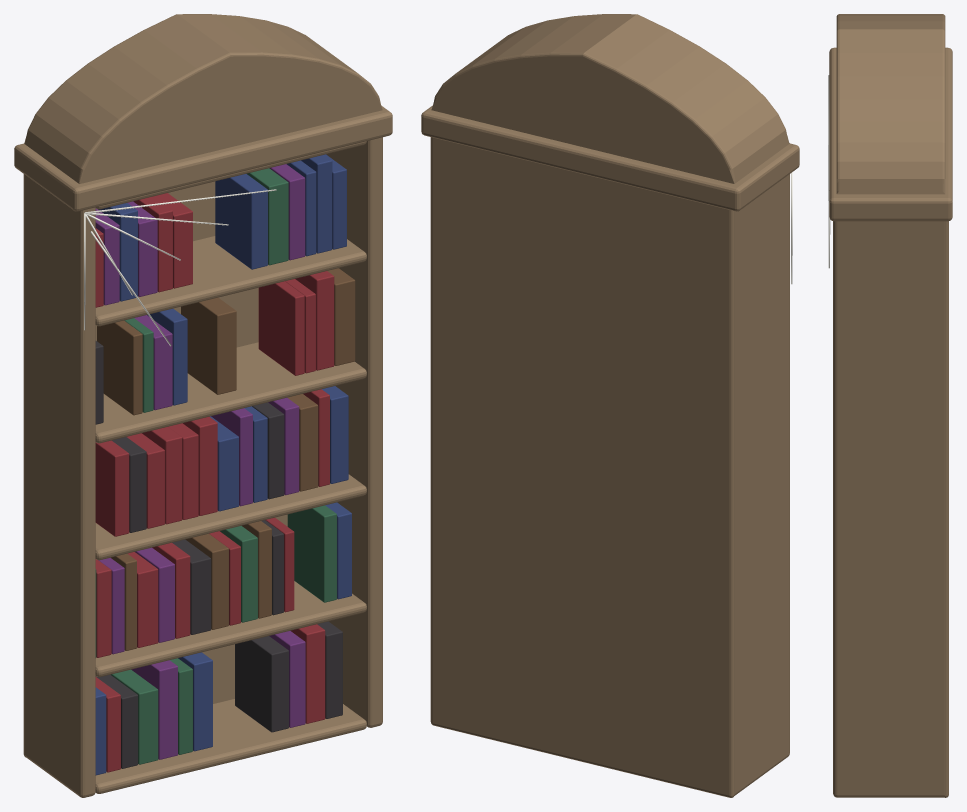
File: bookshelf_cobwebbed.glb
3 views of the same model, side by side, from view 1: azimuth 30°, elevation 25°; view 2: azimuth 150°, elevation 25°; view 3: azimuth 270°, elevation 25° (orthographic).
Visible parts, largest first — view 1: GD_bookshelf_cobwebbed__m0, GD_bookshelf_cobwebbed__m1, GD_bookshelf_cobwebbed__m5, GD_bookshelf_cobwebbed__m4, GD_bookshelf_cobwebbed__m6, GD_bookshelf_cobwebbed__m2, GD_bookshelf_cobwebbed__m3, GD_bookshelf_cobwebbed__m7; view 2: GD_bookshelf_cobwebbed__m0; view 3: GD_bookshelf_cobwebbed__m0, GD_bookshelf_cobwebbed__m7.
Part boxes in pixels (x1,y1,x2,y2): GD_bookshelf_cobwebbed__m0: (14,14,392,797); GD_bookshelf_cobwebbed__m1: (95,193,334,772); GD_bookshelf_cobwebbed__m5: (95,154,351,775); GD_bookshelf_cobwebbed__m4: (95,164,305,759); GD_bookshelf_cobwebbed__m6: (97,268,355,650); GD_bookshelf_cobwebbed__m2: (95,341,342,768); GD_bookshelf_cobwebbed__m3: (95,168,336,764); GD_bookshelf_cobwebbed__m7: (84,189,276,346); GD_bookshelf_cobwebbed__m0: (421,14,799,797); GD_bookshelf_cobwebbed__m0: (829,14,952,797); GD_bookshelf_cobwebbed__m7: (828,75,830,268).
Bounding box in the file's own units: 1 × 2.12 × 0.343.
